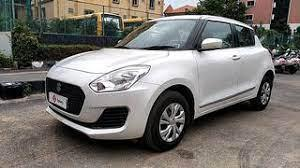Hatchback: (43, 12, 278, 151), (271, 47, 300, 73)
